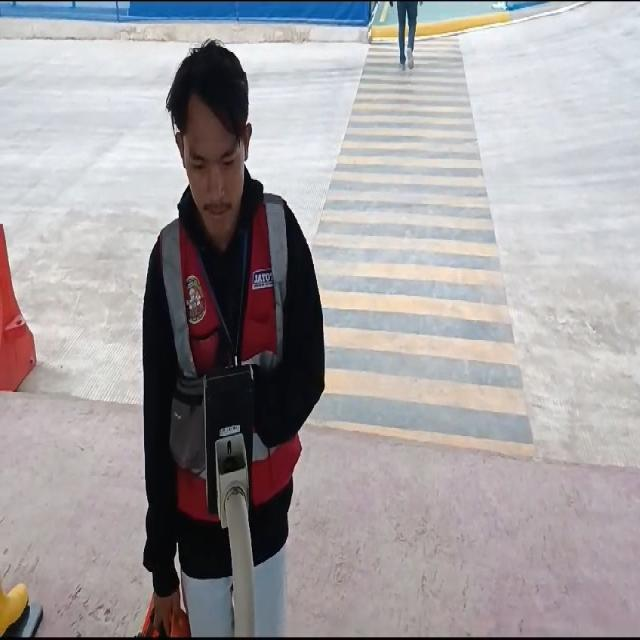safety_vest: (176, 231, 274, 516)
